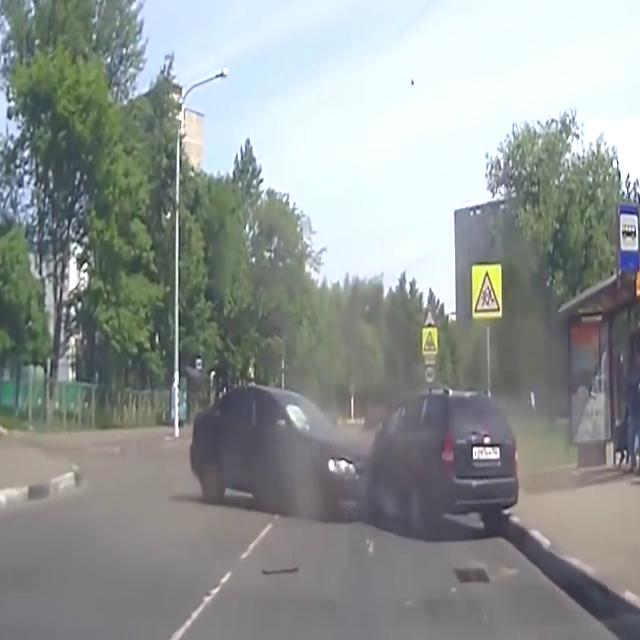accident: (188, 384, 518, 536)
